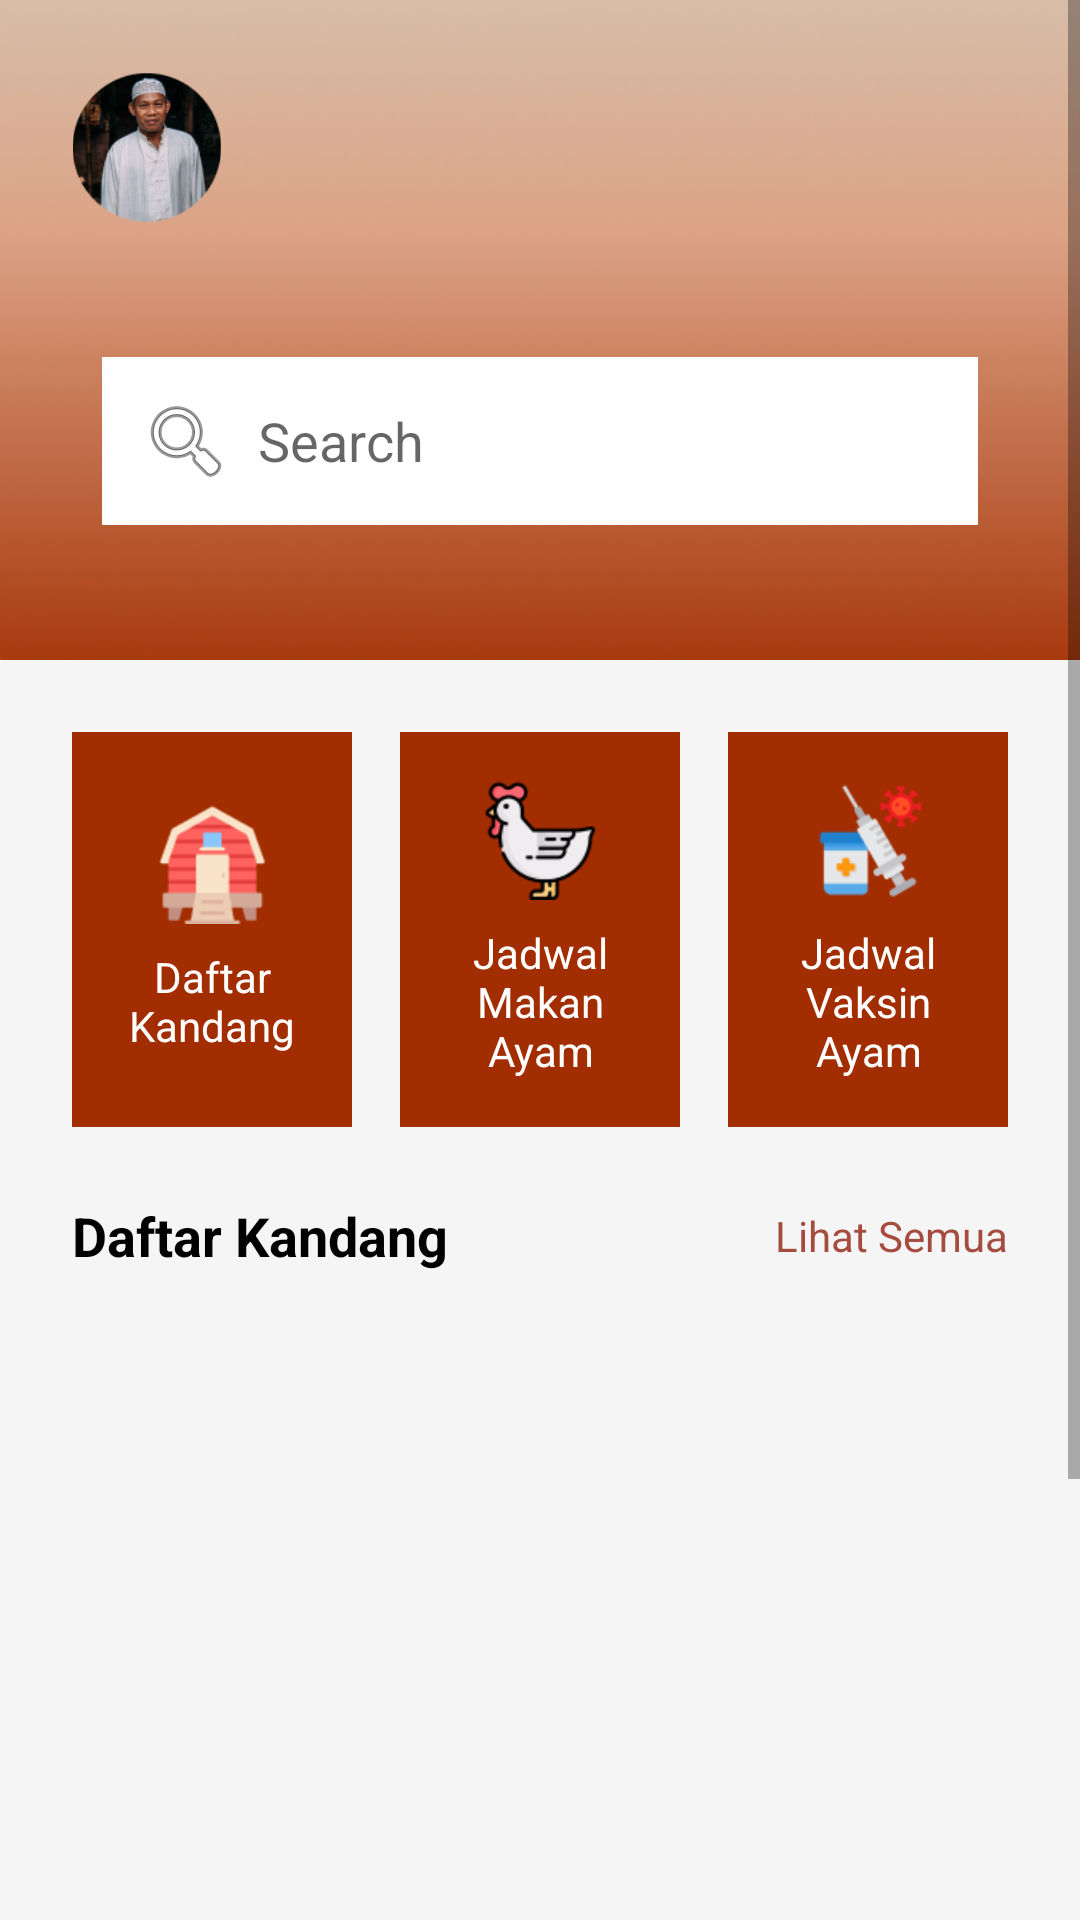

Screen size 1080w x 1920h. Icon name, then its center in pixels as [x,y]:
cage: [212,865]
vaccine: [870,841]
